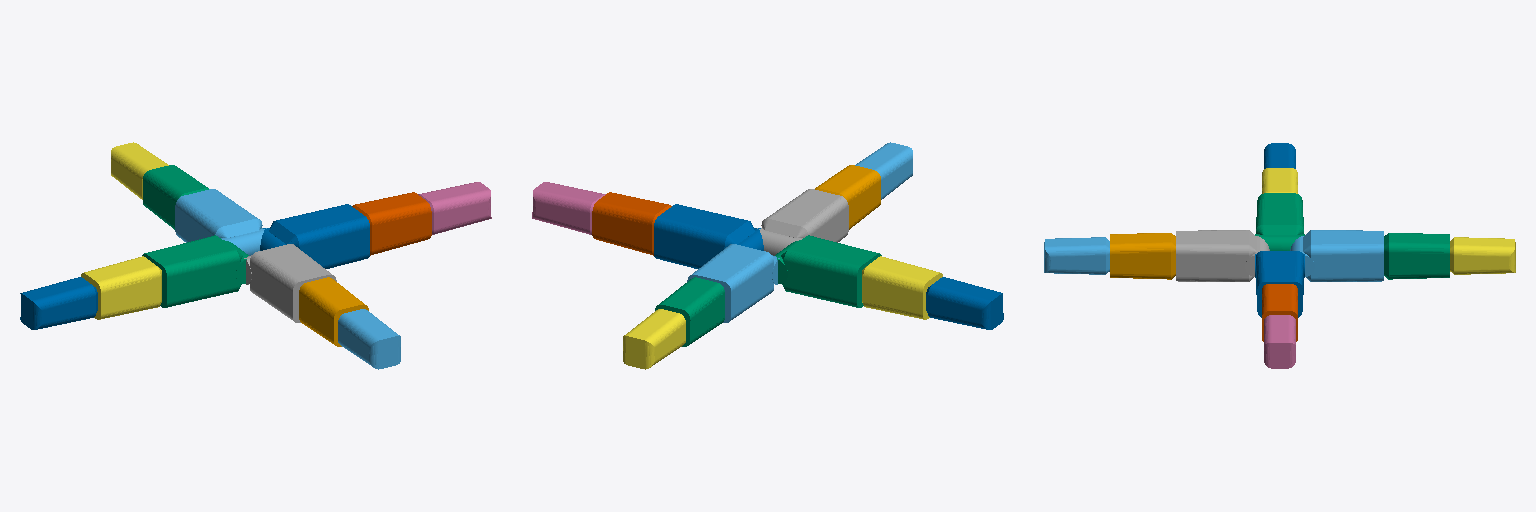
robot.urdf — buer:
<?xml version="1.0" ?>
<!-- =================================================================================== -->
<!-- |    This document was autogenerated by xacro from buer_fourlegs.xacro            | -->
<!-- |    EDITING THIS FILE BY HAND IS NOT RECOMMENDED                                 | -->
<!-- =================================================================================== -->
<robot name="buer">
  <!-- Base link -->
  <link name="head">
    <visual>
      <geometry>
        <mesh filename="stl/head.stl" scale="0.0004 0.0004 0.0004"/>
      </geometry>
    </visual>
    <collision>
      <geometry>
        <cylinder length="0.0004" radius="0.0004"/>
      </geometry>
    </collision>
    <inertial>
      <origin rpy="0 0 0" xyz="0 0 0"/>
      <mass value="8.0"/>
      <inertia ixx="1.5" ixy="0" ixz="0" iyy="1.5" iyz="0" izz="2.0"/>
    </inertial>
    <sensor name="imu" type="imu">
      <origin rpy="0 0 0" xyz="0 0 0"/>
    </sensor>
  </link>
  <link name="leg1_lap">
    <visual>
      <geometry>
        <mesh filename="stl/lap.stl" scale="0.0004 0.0004 0.0004"/>
      </geometry>
    </visual>
    <collision>
      <geometry>
        <mesh filename="stl/lap.stl" scale="0.0004 0.0004 0.0004"/>
      </geometry>
    </collision>
    <inertial>
      <origin rpy="0 0 0" xyz="0.0 0.0 0.0002"/>
      <mass value="1.2"/>
      <inertia ixx="0.08" ixy="0" ixz="0" iyy="0.08" iyz="0" izz="0.01"/>
    </inertial>
  </link>
  <joint name="leg1_lap_joint" type="revolute">
    <parent link="head"/>
    <child link="leg1_lap"/>
    <origin rpy="-1.57 0 0" xyz="0.0 0.11 0.0"/>
    <axis xyz="1 0 0"/>
    <limit effort="100.0" lower="-0.5" upper="0.5" velocity="10.0"/>
  </joint>
  <link name="leg1_calf">
    <visual>
      <geometry>
        <mesh filename="stl/calf.stl" scale="0.0004 0.0004 0.0004"/>
      </geometry>
    </visual>
    <collision>
      <geometry>
        <mesh filename="stl/calf.stl" scale="0.0004 0.0004 0.0004"/>
      </geometry>
    </collision>
    <inertial>
      <origin rpy="0 0 0" xyz="0.0 0.0 0.00016"/>
      <mass value="0.8"/>
      <inertia ixx="0.04" ixy="0" ixz="0" iyy="0.04" iyz="0" izz="0.005"/>
    </inertial>
  </link>
  <joint name="leg1_calf_joint" type="revolute">
    <parent link="leg1_lap"/>
    <child link="leg1_calf"/>
    <origin rpy="0 0 1.5708" xyz="0.0 0.0 0.4"/>
    <axis xyz="1 0 0"/>
    <limit effort="100.0" lower="-2.0" upper="2.0" velocity="10.0"/>
  </joint>
  <link name="leg1_foot">
    <visual>
      <geometry>
        <mesh filename="stl/foot.stl" scale="0.0004 0.0004 0.0004"/>
      </geometry>
    </visual>
    <collision>
      <geometry>
        <mesh filename="stl/foot.stl" scale="0.0004 0.0004 0.0004"/>
      </geometry>
    </collision>
    <inertial>
      <origin rpy="0 0 0" xyz="0.0 0.0 0.0"/>
      <mass value="0.5"/>
      <inertia ixx="0.02" ixy="0" ixz="0" iyy="0.02" iyz="0" izz="0.002"/>
    </inertial>
  </link>
  <joint name="leg1_foot_joint" type="revolute">
    <parent link="leg1_calf"/>
    <child link="leg1_foot"/>
    <origin rpy="0 0 0" xyz="0.0 0.0 0.32"/>
    <axis xyz="1 0 0"/>
    <limit effort="100.0" lower="-2.0" upper="2.0" velocity="10.0"/>
  </joint>
  <link name="leg2_lap">
    <visual>
      <geometry>
        <mesh filename="stl/lap.stl" scale="0.0004 0.0004 0.0004"/>
      </geometry>
    </visual>
    <collision>
      <geometry>
        <mesh filename="stl/lap.stl" scale="0.0004 0.0004 0.0004"/>
      </geometry>
    </collision>
    <inertial>
      <origin rpy="0 0 0" xyz="0.0 0.0 0.0002"/>
      <mass value="1.2"/>
      <inertia ixx="0.08" ixy="0" ixz="0" iyy="0.08" iyz="0" izz="0.01"/>
    </inertial>
  </link>
  <joint name="leg2_lap_joint" type="revolute">
    <parent link="head"/>
    <child link="leg2_lap"/>
    <origin rpy="-1.57 0 -1.5708" xyz="0.11 0.0 0.0"/>
    <axis xyz="1 0 0"/>
    <limit effort="100.0" lower="-0.5" upper="0.5" velocity="10.0"/>
  </joint>
  <link name="leg2_calf">
    <visual>
      <geometry>
        <mesh filename="stl/calf.stl" scale="0.0004 0.0004 0.0004"/>
      </geometry>
    </visual>
    <collision>
      <geometry>
        <mesh filename="stl/calf.stl" scale="0.0004 0.0004 0.0004"/>
      </geometry>
    </collision>
    <inertial>
      <origin rpy="0 0 0" xyz="0.0 0.0 0.00016"/>
      <mass value="0.8"/>
      <inertia ixx="0.04" ixy="0" ixz="0" iyy="0.04" iyz="0" izz="0.005"/>
    </inertial>
  </link>
  <joint name="leg2_calf_joint" type="revolute">
    <parent link="leg2_lap"/>
    <child link="leg2_calf"/>
    <origin rpy="0 0 1.5708" xyz="0.0 0.0 0.4"/>
    <axis xyz="1 0 0"/>
    <limit effort="100.0" lower="-2.0" upper="2.0" velocity="10.0"/>
  </joint>
  <link name="leg2_foot">
    <visual>
      <geometry>
        <mesh filename="stl/foot.stl" scale="0.0004 0.0004 0.0004"/>
      </geometry>
    </visual>
    <collision>
      <geometry>
        <mesh filename="stl/foot.stl" scale="0.0004 0.0004 0.0004"/>
      </geometry>
    </collision>
    <inertial>
      <origin rpy="0 0 0" xyz="0.0 0.0 0.0"/>
      <mass value="0.5"/>
      <inertia ixx="0.02" ixy="0" ixz="0" iyy="0.02" iyz="0" izz="0.002"/>
    </inertial>
  </link>
  <joint name="leg2_foot_joint" type="revolute">
    <parent link="leg2_calf"/>
    <child link="leg2_foot"/>
    <origin rpy="0 0 0" xyz="0.0 0.0 0.32"/>
    <axis xyz="1 0 0"/>
    <limit effort="100.0" lower="-2.0" upper="2.0" velocity="10.0"/>
  </joint>
  <link name="leg3_lap">
    <visual>
      <geometry>
        <mesh filename="stl/lap.stl" scale="0.0004 0.0004 0.0004"/>
      </geometry>
    </visual>
    <collision>
      <geometry>
        <mesh filename="stl/lap.stl" scale="0.0004 0.0004 0.0004"/>
      </geometry>
    </collision>
    <inertial>
      <origin rpy="0 0 0" xyz="0.0 0.0 0.0002"/>
      <mass value="1.2"/>
      <inertia ixx="0.08" ixy="0" ixz="0" iyy="0.08" iyz="0" izz="0.01"/>
    </inertial>
  </link>
  <joint name="leg3_lap_joint" type="revolute">
    <parent link="head"/>
    <child link="leg3_lap"/>
    <origin rpy="-1.57 0 3.1416" xyz="0.0 -0.11 0.0"/>
    <axis xyz="1 0 0"/>
    <limit effort="100.0" lower="-0.5" upper="0.5" velocity="10.0"/>
  </joint>
  <link name="leg3_calf">
    <visual>
      <geometry>
        <mesh filename="stl/calf.stl" scale="0.0004 0.0004 0.0004"/>
      </geometry>
    </visual>
    <collision>
      <geometry>
        <mesh filename="stl/calf.stl" scale="0.0004 0.0004 0.0004"/>
      </geometry>
    </collision>
    <inertial>
      <origin rpy="0 0 0" xyz="0.0 0.0 0.00016"/>
      <mass value="0.8"/>
      <inertia ixx="0.04" ixy="0" ixz="0" iyy="0.04" iyz="0" izz="0.005"/>
    </inertial>
  </link>
  <joint name="leg3_calf_joint" type="revolute">
    <parent link="leg3_lap"/>
    <child link="leg3_calf"/>
    <origin rpy="0 0 1.5708" xyz="0.0 0.0 0.4"/>
    <axis xyz="1 0 0"/>
    <limit effort="100.0" lower="-2.0" upper="2.0" velocity="10.0"/>
  </joint>
  <link name="leg3_foot">
    <visual>
      <geometry>
        <mesh filename="stl/foot.stl" scale="0.0004 0.0004 0.0004"/>
      </geometry>
    </visual>
    <collision>
      <geometry>
        <mesh filename="stl/foot.stl" scale="0.0004 0.0004 0.0004"/>
      </geometry>
    </collision>
    <inertial>
      <origin rpy="0 0 0" xyz="0.0 0.0 0.0"/>
      <mass value="0.5"/>
      <inertia ixx="0.02" ixy="0" ixz="0" iyy="0.02" iyz="0" izz="0.002"/>
    </inertial>
  </link>
  <joint name="leg3_foot_joint" type="revolute">
    <parent link="leg3_calf"/>
    <child link="leg3_foot"/>
    <origin rpy="0 0 0" xyz="0.0 0.0 0.32"/>
    <axis xyz="1 0 0"/>
    <limit effort="100.0" lower="-2.0" upper="2.0" velocity="10.0"/>
  </joint>
  <link name="leg4_lap">
    <visual>
      <geometry>
        <mesh filename="stl/lap.stl" scale="0.0004 0.0004 0.0004"/>
      </geometry>
    </visual>
    <collision>
      <geometry>
        <mesh filename="stl/lap.stl" scale="0.0004 0.0004 0.0004"/>
      </geometry>
    </collision>
    <inertial>
      <origin rpy="0 0 0" xyz="0.0 0.0 0.0002"/>
      <mass value="1.2"/>
      <inertia ixx="0.08" ixy="0" ixz="0" iyy="0.08" iyz="0" izz="0.01"/>
    </inertial>
  </link>
  <joint name="leg4_lap_joint" type="revolute">
    <parent link="head"/>
    <child link="leg4_lap"/>
    <origin rpy="-1.57 0 1.5708" xyz="-0.11 0.0 0.0"/>
    <axis xyz="1 0 0"/>
    <limit effort="100.0" lower="-0.5" upper="0.5" velocity="10.0"/>
  </joint>
  <link name="leg4_calf">
    <visual>
      <geometry>
        <mesh filename="stl/calf.stl" scale="0.0004 0.0004 0.0004"/>
      </geometry>
    </visual>
    <collision>
      <geometry>
        <mesh filename="stl/calf.stl" scale="0.0004 0.0004 0.0004"/>
      </geometry>
    </collision>
    <inertial>
      <origin rpy="0 0 0" xyz="0.0 0.0 0.00016"/>
      <mass value="0.8"/>
      <inertia ixx="0.04" ixy="0" ixz="0" iyy="0.04" iyz="0" izz="0.005"/>
    </inertial>
  </link>
  <joint name="leg4_calf_joint" type="revolute">
    <parent link="leg4_lap"/>
    <child link="leg4_calf"/>
    <origin rpy="0 0 1.5708" xyz="0.0 0.0 0.4"/>
    <axis xyz="1 0 0"/>
    <limit effort="100.0" lower="-2.0" upper="2.0" velocity="10.0"/>
  </joint>
  <link name="leg4_foot">
    <visual>
      <geometry>
        <mesh filename="stl/foot.stl" scale="0.0004 0.0004 0.0004"/>
      </geometry>
    </visual>
    <collision>
      <geometry>
        <mesh filename="stl/foot.stl" scale="0.0004 0.0004 0.0004"/>
      </geometry>
    </collision>
    <inertial>
      <origin rpy="0 0 0" xyz="0.0 0.0 0.0"/>
      <mass value="0.5"/>
      <inertia ixx="0.02" ixy="0" ixz="0" iyy="0.02" iyz="0" izz="0.002"/>
    </inertial>
  </link>
  <joint name="leg4_foot_joint" type="revolute">
    <parent link="leg4_calf"/>
    <child link="leg4_foot"/>
    <origin rpy="0 0 0" xyz="0.0 0.0 0.32"/>
    <axis xyz="1 0 0"/>
    <limit effort="100.0" lower="-2.0" upper="2.0" velocity="10.0"/>
  </joint>
</robot>

--- Render facts (derived) ---
The picture shows the robot from 3 angles, left to right: view 1: azimuth 30°, elevation 25°; view 2: azimuth 150°, elevation 25°; view 3: azimuth 270°, elevation 25°; orthographic projection.
Model buer with 13 links and 12 joints (12 revolute), rooted at head, posed every joint at zero.
Links seen in each view (by area): view 1: leg4_lap, leg2_lap, leg1_lap, leg3_lap, leg4_calf, leg2_calf, leg4_foot, leg3_foot, leg3_calf, leg2_foot, leg1_calf, leg1_foot; view 2: leg4_lap, leg2_lap, leg3_lap, leg1_lap, leg4_calf, leg2_calf, leg4_foot, leg1_foot, leg1_calf, leg2_foot, leg3_calf, leg3_foot; view 3: leg1_lap, leg3_lap, leg1_calf, leg3_calf, leg4_lap, leg1_foot, leg3_foot, leg2_lap, leg2_foot, leg2_calf, leg4_calf, leg4_foot.
Link boxes in pixels (x1=…): leg4_lap: x1=142, y1=235, x2=248, y2=307; leg2_lap: x1=260, y1=204, x2=369, y2=268; leg1_lap: x1=175, y1=189, x2=266, y2=255; leg3_lap: x1=244, y1=244, x2=336, y2=322; leg4_calf: x1=81, y1=256, x2=161, y2=319; leg2_calf: x1=352, y1=192, x2=431, y2=255; leg4_foot: x1=20, y1=277, x2=97, y2=329; leg3_foot: x1=338, y1=309, x2=400, y2=369; leg3_calf: x1=299, y1=277, x2=368, y2=346; leg2_foot: x1=418, y1=182, x2=491, y2=234; leg1_calf: x1=143, y1=165, x2=208, y2=229; leg1_foot: x1=111, y1=142, x2=168, y2=199; leg4_lap: x1=775, y1=235, x2=881, y2=307; leg2_lap: x1=654, y1=204, x2=763, y2=268; leg3_lap: x1=757, y1=189, x2=848, y2=255; leg1_lap: x1=687, y1=244, x2=779, y2=322; leg4_calf: x1=862, y1=256, x2=942, y2=319; leg2_calf: x1=592, y1=192, x2=671, y2=255; leg4_foot: x1=926, y1=277, x2=1003, y2=329; leg1_foot: x1=623, y1=309, x2=685, y2=369; leg1_calf: x1=655, y1=277, x2=724, y2=346; leg2_foot: x1=532, y1=182, x2=605, y2=234; leg3_calf: x1=815, y1=165, x2=880, y2=229; leg3_foot: x1=855, y1=142, x2=912, y2=199; leg1_lap: x1=1290, y1=230, x2=1383, y2=281; leg3_lap: x1=1176, y1=230, x2=1269, y2=281; leg1_calf: x1=1384, y1=233, x2=1449, y2=279; leg3_calf: x1=1110, y1=233, x2=1175, y2=279; leg4_lap: x1=1255, y1=193, x2=1304, y2=250; leg1_foot: x1=1450, y1=237, x2=1515, y2=274; leg3_foot: x1=1044, y1=237, x2=1109, y2=274; leg2_lap: x1=1255, y1=251, x2=1304, y2=317; leg2_foot: x1=1264, y1=315, x2=1295, y2=368; leg2_calf: x1=1262, y1=284, x2=1297, y2=341; leg4_calf: x1=1262, y1=168, x2=1297, y2=193; leg4_foot: x1=1264, y1=143, x2=1295, y2=168.
Bounding box of the posed robot: 2.3 × 2.3 × 0.2003 m (x, y, z).
Meshes: 4 distinct files referenced, 12 mesh visuals loaded (3 binary STL); not drawn: 1 (reference not matched to a file when rendering).
